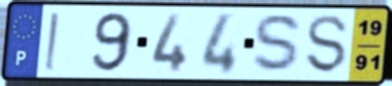4: (200, 10, 241, 77), (149, 11, 191, 75)
9: (89, 10, 136, 74)
I: (43, 10, 61, 73)
S: (250, 12, 307, 76), (305, 13, 350, 76)
